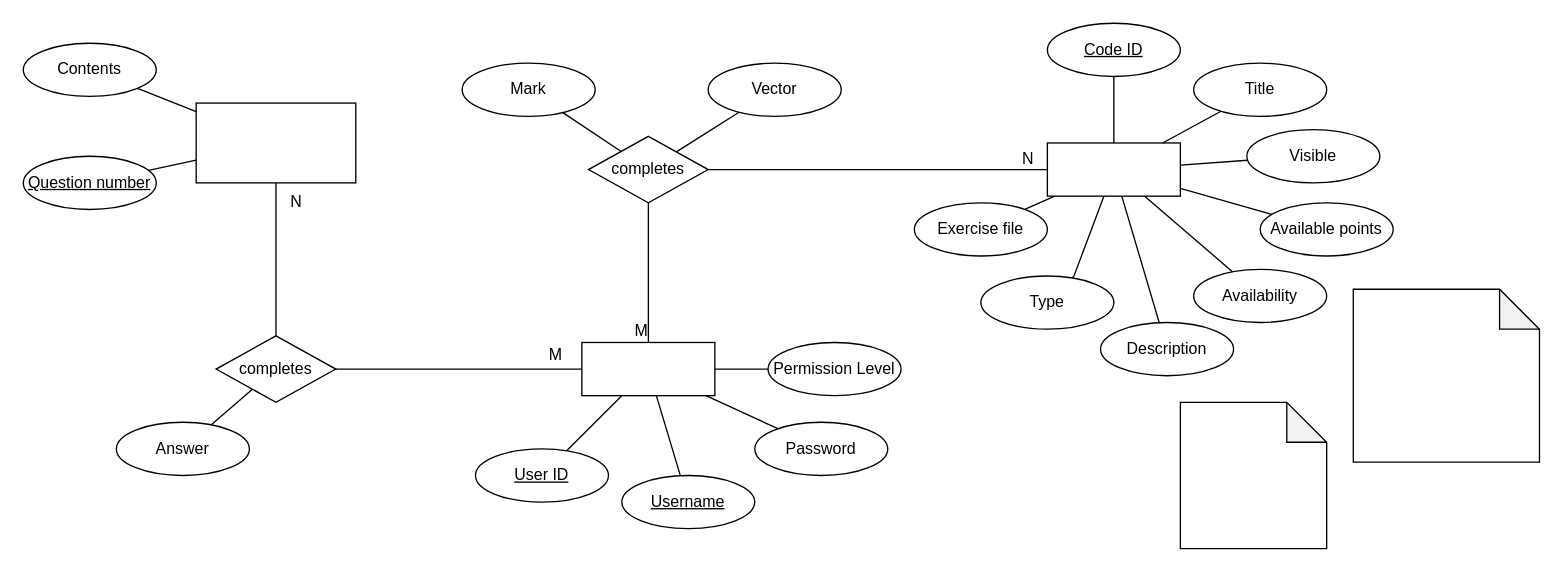
The diagram is 1563 pixels wide and 572 high, and some of its shapes have lost their labels. The box of each missing label's shape, as (x1, y1, x2, y2) in pixels:
Availability tells the system what group of users can see the exercise: (1352, 288, 1539, 462)
Code exercise: (1046, 142, 1180, 196)
Survey Question: (195, 102, 356, 183)
Type will determine what kind of exercise this is: (1179, 401, 1327, 549)
User: (581, 341, 715, 396)
